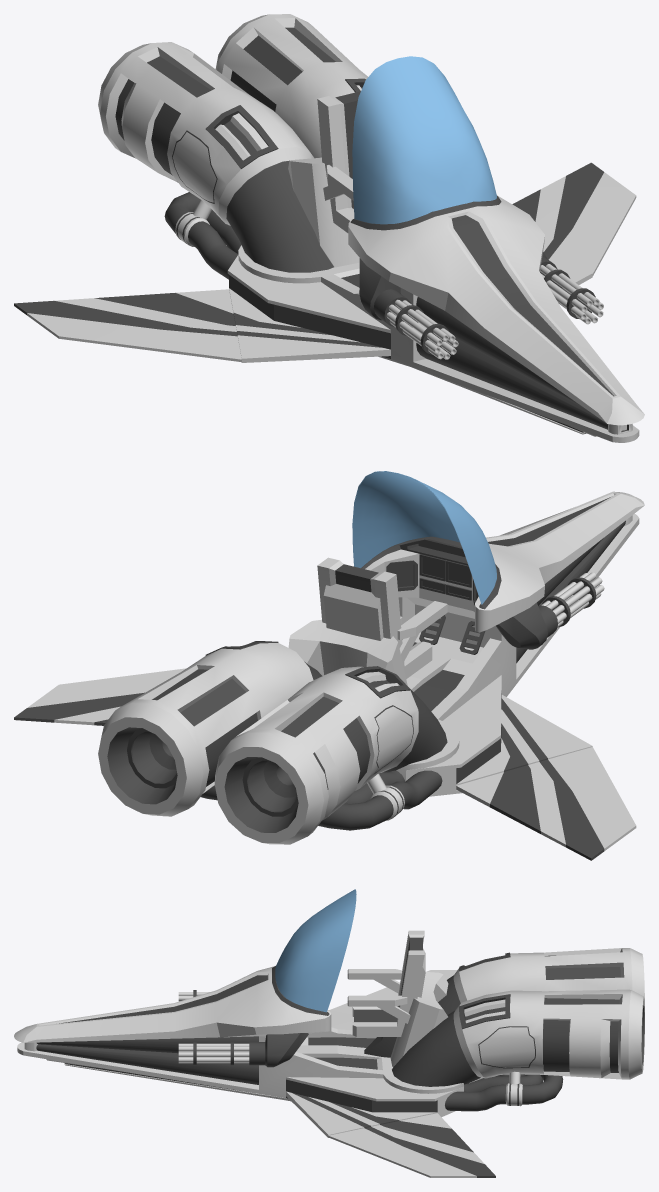
The picture shows the model from 3 angles, top to bottom: view 1: azimuth 30°, elevation 25°; view 2: azimuth 150°, elevation 25°; view 3: azimuth 270°, elevation 25°; orthographic projection. The views are drawn at different scales.
Visible parts, largest first — view 1: SB-1Body, RightWing2, LeftWing2, RightWing, MiniGunR, AirbrakeR, MiniGunL; view 2: SB-1Body, RightWing2, LeftWing2, RightWing, MiniGunR, AirbrakeR; view 3: SB-1Body, LeftWing2, LeftWing, AirbrakeL, MiniGunL, RightWing2.
Part boxes in pixels (x1,y1,x2,y2): SB-1Body: (98,14,644,442); RightWing2: (14,289,241,362); LeftWing2: (512,162,636,275); RightWing: (229,288,390,362); MiniGunR: (373,289,458,359); AirbrakeR: (172,130,217,203); MiniGunL: (540,256,603,324); SB-1Body: (98,471,644,844); RightWing2: (456,747,636,860); LeftWing2: (14,668,186,725); RightWing: (456,695,592,790); MiniGunR: (538,572,604,637); AirbrakeR: (374,705,413,773); SB-1Body: (14,889,644,1117); LeftWing2: (328,1113,495,1177); LeftWing: (286,1091,437,1137); AirbrakeL: (478,1026,535,1068); MiniGunL: (178,1042,265,1065); RightWing2: (330,970,457,1014).
Bounding box in the file's own units: 3.3 × 1.46 × 4.27.
